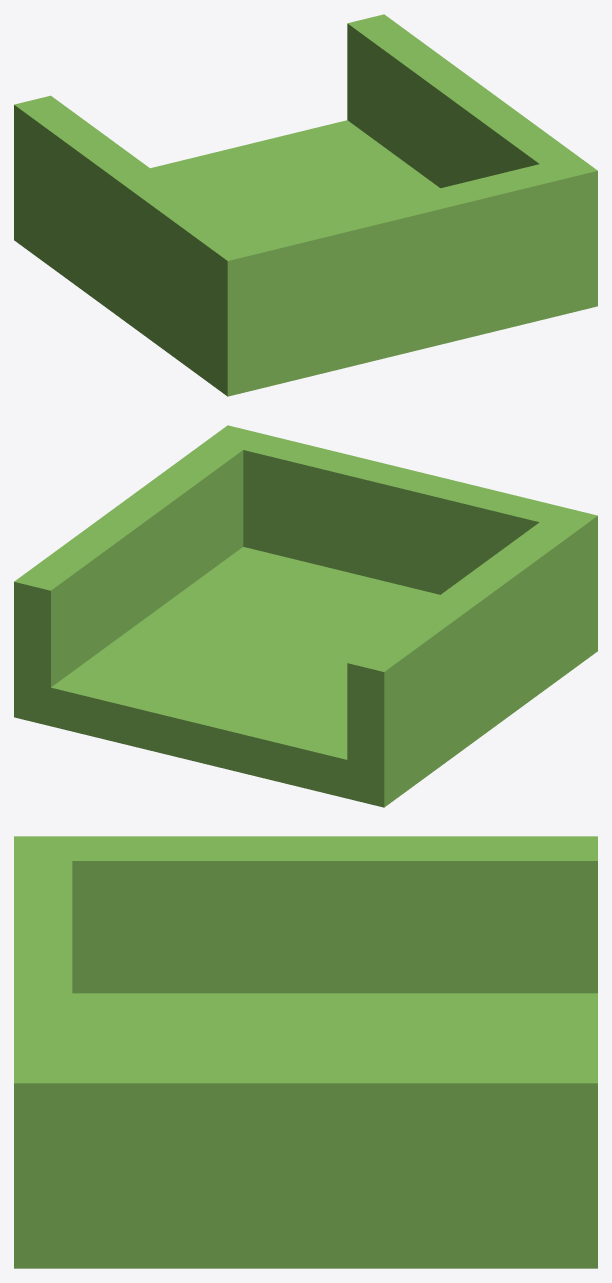
The model's file is LimeRoof_3Edges_Small.glb.
The picture shows the model from 3 angles, top to bottom: view 1: azimuth 30°, elevation 25°; view 2: azimuth 150°, elevation 25°; view 3: azimuth 270°, elevation 25°; orthographic projection. The views are drawn at different scales.
Parts seen in each view (by area): view 1: roof_flat_3Edges_small_lime; view 2: roof_flat_3Edges_small_lime; view 3: roof_flat_3Edges_small_lime.
Boxes of the visible parts, <box> form: roof_flat_3Edges_small_lime: <box>14,14,597,396</box>; roof_flat_3Edges_small_lime: <box>14,425,597,807</box>; roof_flat_3Edges_small_lime: <box>14,836,597,1268</box>.
Size of what is drawn, in the model's own units: 2 by 0.7 by 2.
1 material, 1 textured.
